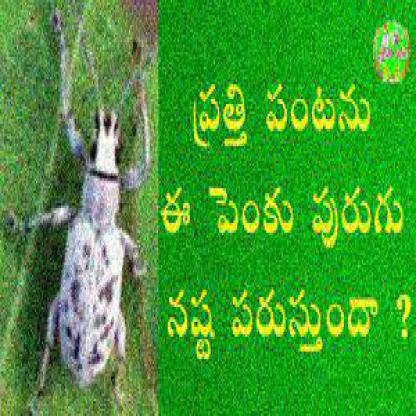ash weevil: (11, 21, 143, 391)
